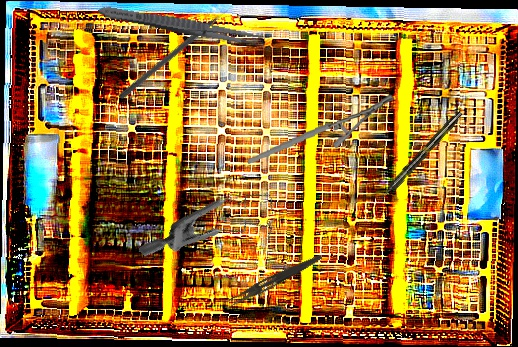Dressing Forceps: (96, 2, 267, 49), (222, 249, 324, 313)
Handpiece: (377, 109, 465, 202)
Needle Holder: (242, 92, 399, 165)
Pusher: (117, 2, 237, 102)
Speculum: (136, 152, 292, 311)
